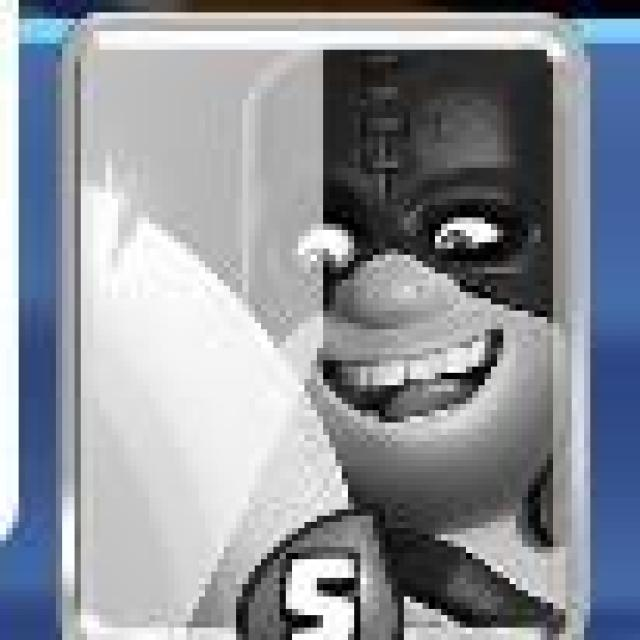Executioner: (57, 13, 582, 640)
